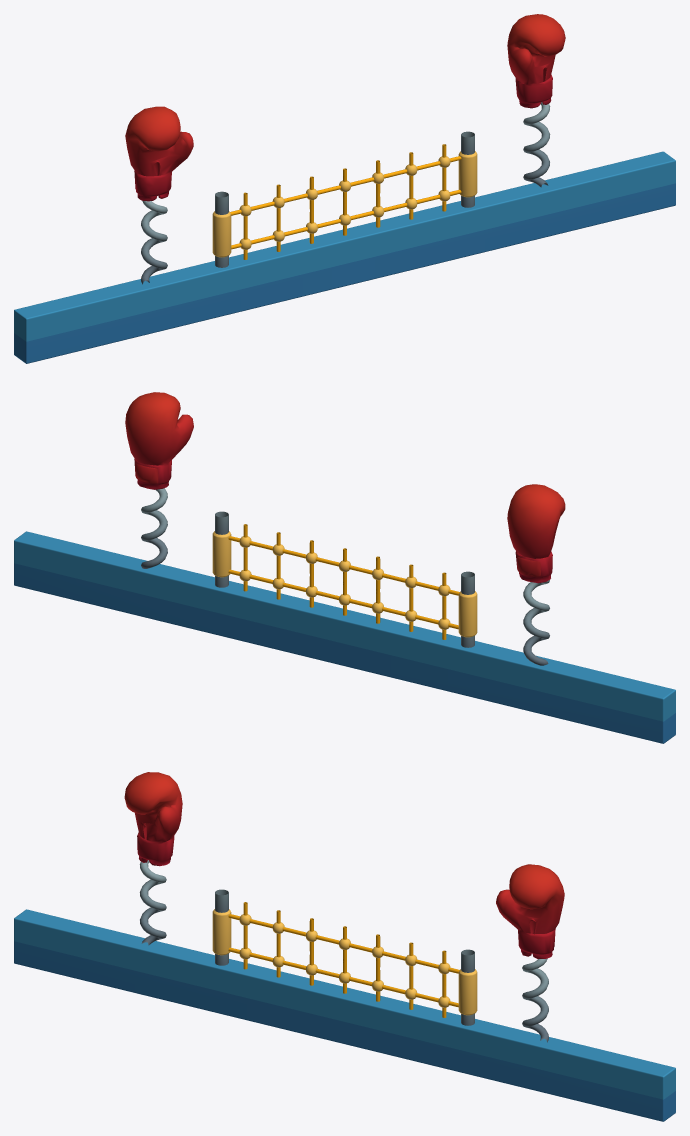
Rendered from Platform-Enviroment.fbx.
3 views of the same model, one above another, from view 1: azimuth 30°, elevation 25°; view 2: azimuth 150°, elevation 25°; view 3: azimuth 330°, elevation 25° (orthographic).
Parts seen in each view (by area): view 1: Platform-Enviroment; view 2: Platform-Enviroment; view 3: Platform-Enviroment.
Boxes of the visible parts, bbox=[...] form: Platform-Enviroment: bbox=[14, 14, 675, 363]; Platform-Enviroment: bbox=[14, 392, 675, 743]; Platform-Enviroment: bbox=[14, 772, 675, 1121].
Size of the model in its own units: 5932 by 1900 by 453.
